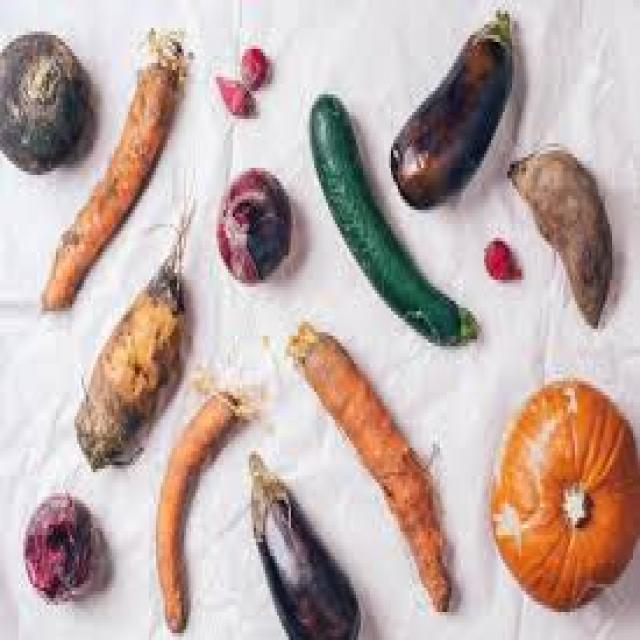organic waste: (284, 318, 449, 612), (39, 28, 191, 308), (307, 91, 477, 339), (488, 374, 638, 612), (70, 224, 184, 462), (389, 7, 512, 210), (154, 385, 238, 626), (505, 144, 612, 332), (0, 28, 88, 168), (21, 489, 102, 602), (214, 164, 291, 280), (479, 234, 519, 280), (214, 73, 254, 112), (235, 42, 268, 87)
